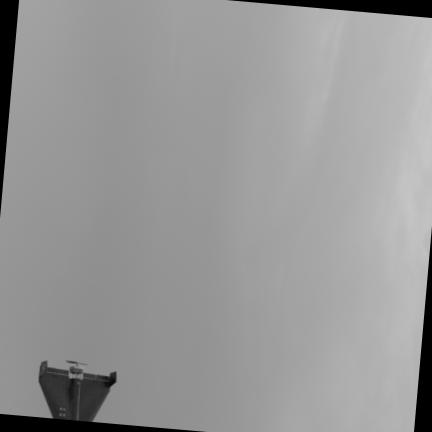Shahed: (38, 361, 115, 421)
